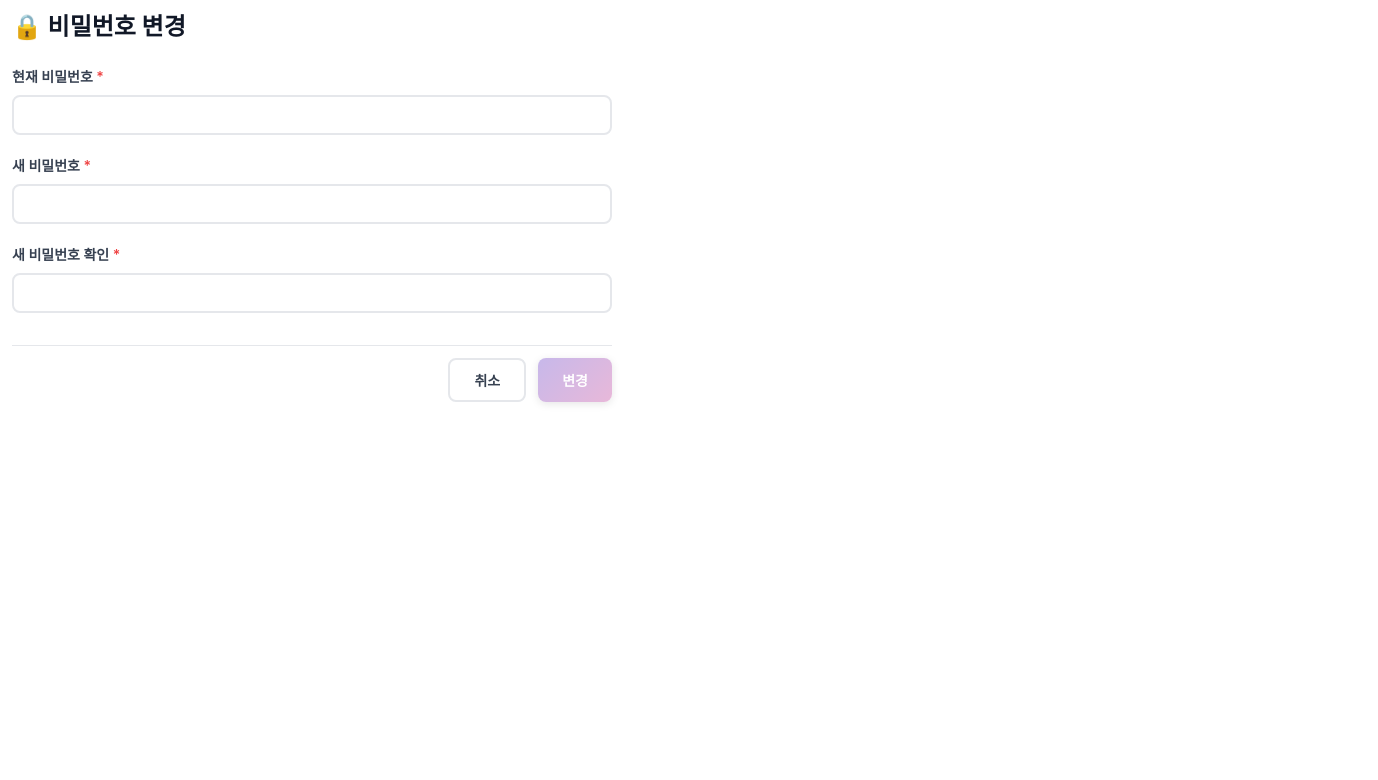
Test case: PasswordChange Component › 비밀번호 변경 › 에러 처리 - 네트워크 오류
Type "OldPass123!" into the password field below "현재 비밀번호" at (312, 115), box [12,95,612,135]
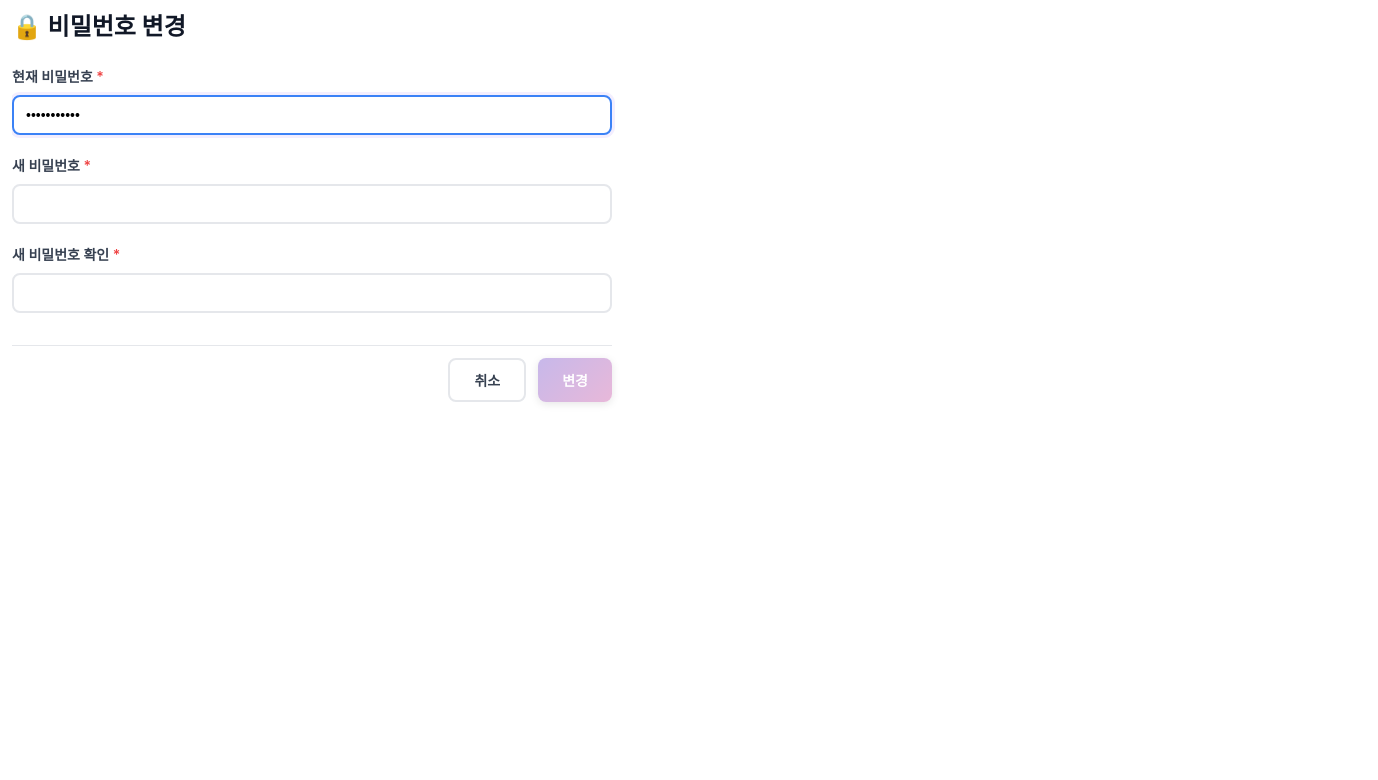
Type "NewPass123!" into the 2nd password field at (312, 204), box [12,184,612,224]
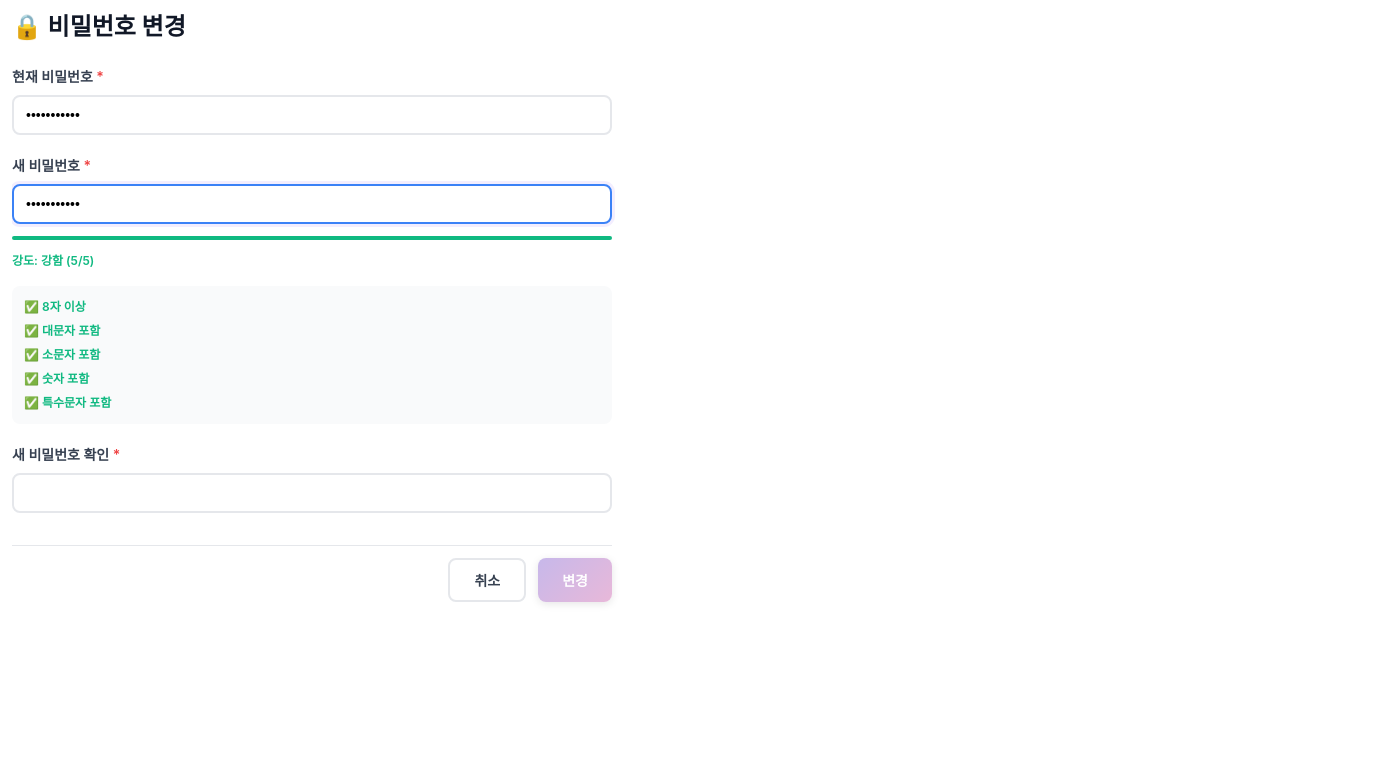
Type "NewPass123!" into the password field below "새 비밀번호 확인" at (312, 493), box [12,473,612,513]
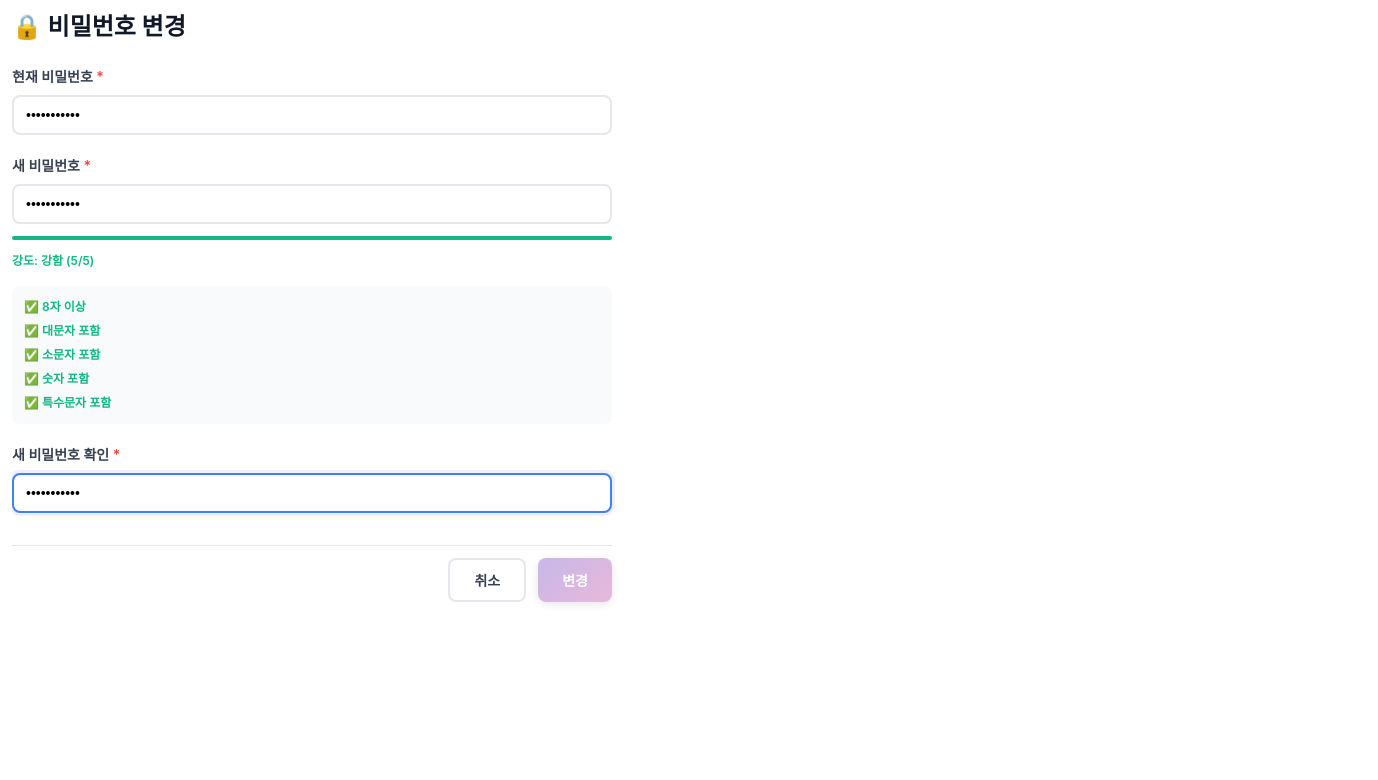
Click the button "변경" at (575, 580), box [538,558,612,602]
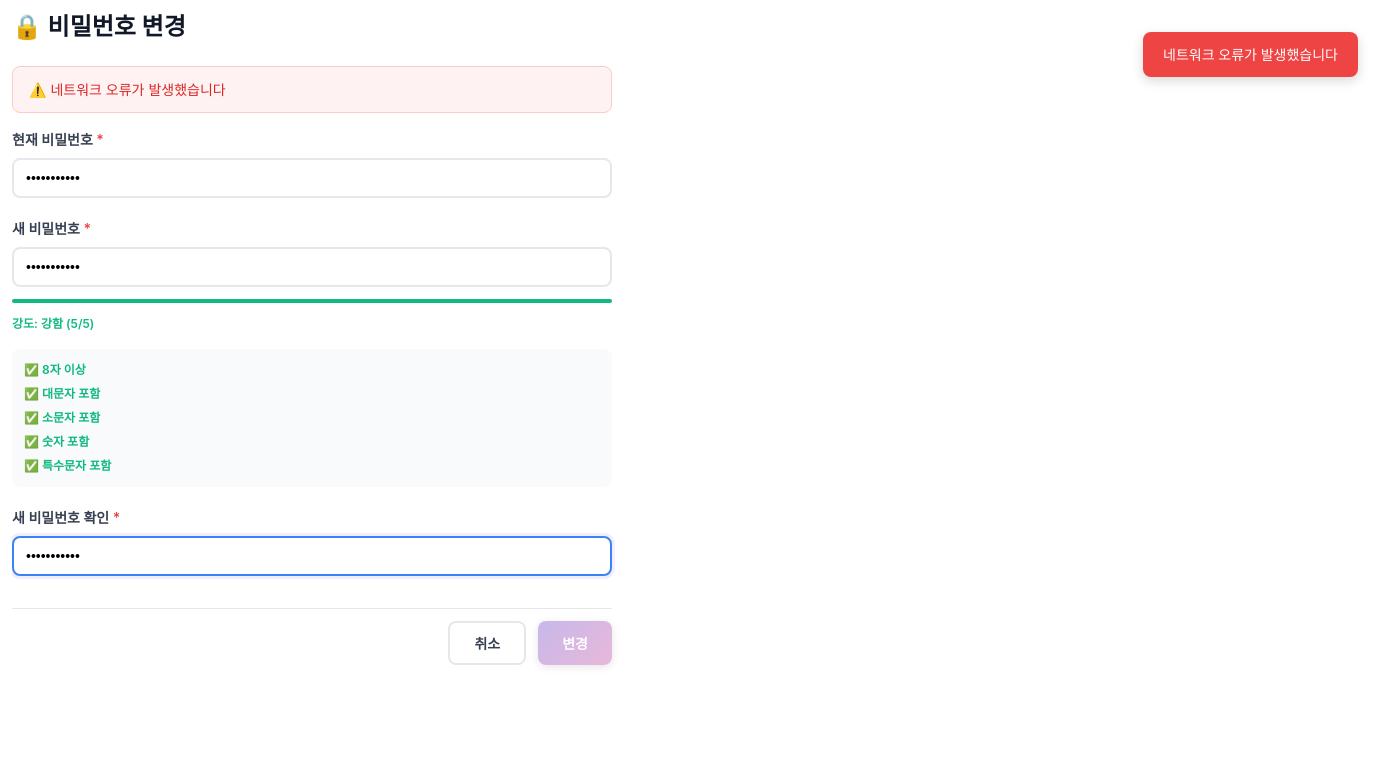
Result: the text "네트워크 오류가 발생했습니다" is shown at [1143,32,1358,77]
